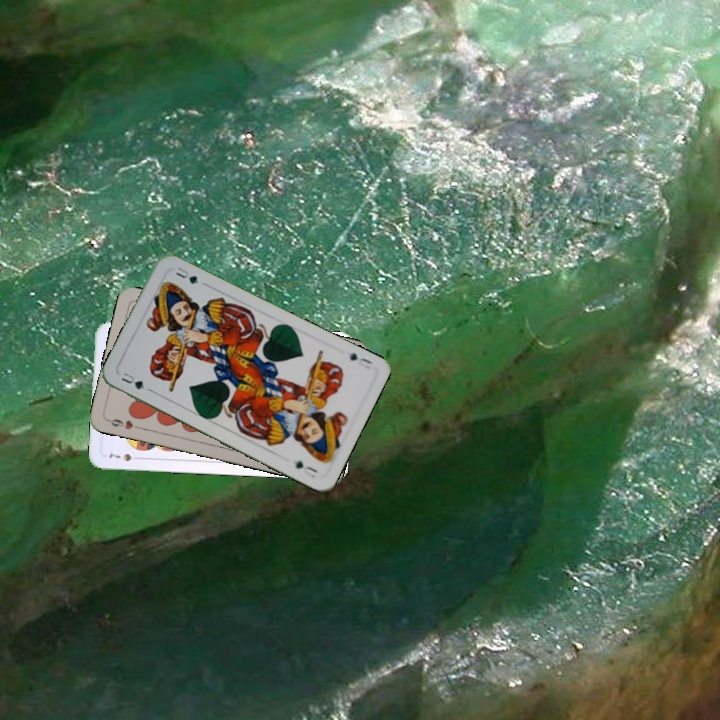GU: (117, 368, 147, 392), (346, 349, 374, 371)
H9: (104, 415, 144, 432)
S7: (105, 449, 144, 464)
